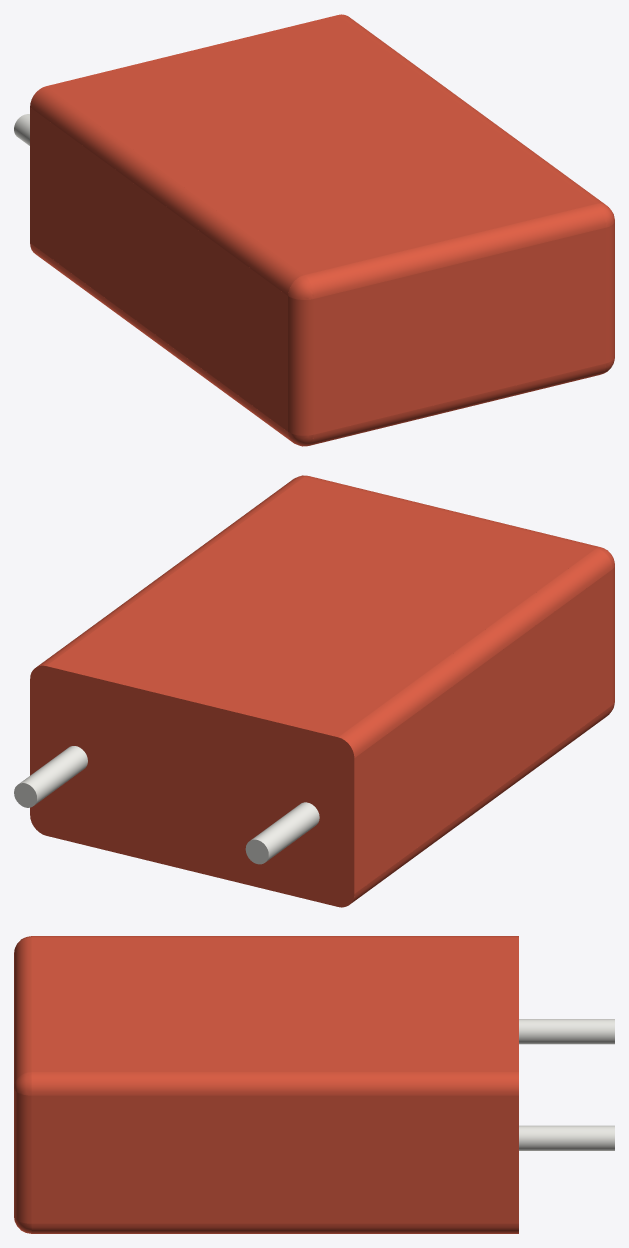
Rendered from C_Rect_L7.0mm_W3.5mm_P5.00mm.glb.
3 renders of one model, top to bottom at view 1: azimuth 30°, elevation 25°; view 2: azimuth 150°, elevation 25°; view 3: azimuth 270°, elevation 25°, orthographic. The views are drawn at different scales.
Visible parts, largest first — view 1: Shape_IndexedFaceSet.009, Shape_IndexedFaceSet.007, Shape_IndexedFaceSet, Shape_IndexedFaceSet.004, Shape_IndexedFaceSet.017, Shape_IndexedFaceSet.002, Shape_IndexedFaceSet.015, Shape_IndexedFaceSet.001, Shape_IndexedFaceSet.011, Shape_IndexedFaceSet.016; view 2: Shape_IndexedFaceSet.009, Shape_IndexedFaceSet.003, Shape_IndexedFaceSet, Shape_IndexedFaceSet.004, Shape_IndexedFaceSet.001, Shape_IndexedFaceSet.011, Shape_IndexedFaceSet.013, Shape_IndexedFaceSet.014, Shape_IndexedFaceSet.017; view 3: Shape_IndexedFaceSet.009, Shape_IndexedFaceSet.012, Shape_IndexedFaceSet.011, Shape_IndexedFaceSet.010, Shape_IndexedFaceSet.013, Shape_IndexedFaceSet.014, Shape_IndexedFaceSet.017, Shape_IndexedFaceSet.016, Shape_IndexedFaceSet.004.
Boxes of the visible parts, left/top/right/bottom form: Shape_IndexedFaceSet.009: left=46, top=15, right=595, bottom=274; Shape_IndexedFaceSet.007: left=313, top=228, right=605, bottom=434; Shape_IndexedFaceSet: left=30, top=107, right=287, bottom=431; Shape_IndexedFaceSet.004: left=30, top=86, right=303, bottom=295; Shape_IndexedFaceSet.017: left=304, top=204, right=605, bottom=298; Shape_IndexedFaceSet.002: left=288, top=296, right=313, bottom=435; Shape_IndexedFaceSet.015: left=309, top=363, right=605, bottom=445; Shape_IndexedFaceSet.001: left=30, top=243, right=291, bottom=441; Shape_IndexedFaceSet.011: left=338, top=14, right=605, bottom=204; Shape_IndexedFaceSet.016: left=605, top=222, right=614, bottom=363; Shape_IndexedFaceSet.009: left=47, top=477, right=595, bottom=736; Shape_IndexedFaceSet.003: left=30, top=665, right=354, bottom=907; Shape_IndexedFaceSet: left=354, top=569, right=612, bottom=893; Shape_IndexedFaceSet.004: left=338, top=548, right=612, bottom=757; Shape_IndexedFaceSet.001: left=351, top=705, right=612, bottom=903; Shape_IndexedFaceSet.011: left=37, top=476, right=303, bottom=666; Shape_IndexedFaceSet.013: left=251, top=802, right=319, bottom=861; Shape_IndexedFaceSet.014: left=19, top=746, right=87, bottom=804; Shape_IndexedFaceSet.017: left=305, top=476, right=598, bottom=548; Shape_IndexedFaceSet.009: left=31, top=937, right=518, bottom=1071; Shape_IndexedFaceSet.012: left=31, top=1095, right=518, bottom=1223; Shape_IndexedFaceSet.011: left=31, top=1072, right=518, bottom=1095; Shape_IndexedFaceSet.010: left=31, top=1223, right=518, bottom=1233; Shape_IndexedFaceSet.013: left=519, top=1019, right=614, bottom=1044; Shape_IndexedFaceSet.014: left=519, top=1125, right=614, bottom=1150; Shape_IndexedFaceSet.017: left=14, top=937, right=31, bottom=1086; Shape_IndexedFaceSet.016: left=14, top=1089, right=31, bottom=1223; Shape_IndexedFaceSet.004: left=31, top=936, right=518, bottom=937.
Bounding box in the file's own units: 2.76 × 1.38 × 4.69.
